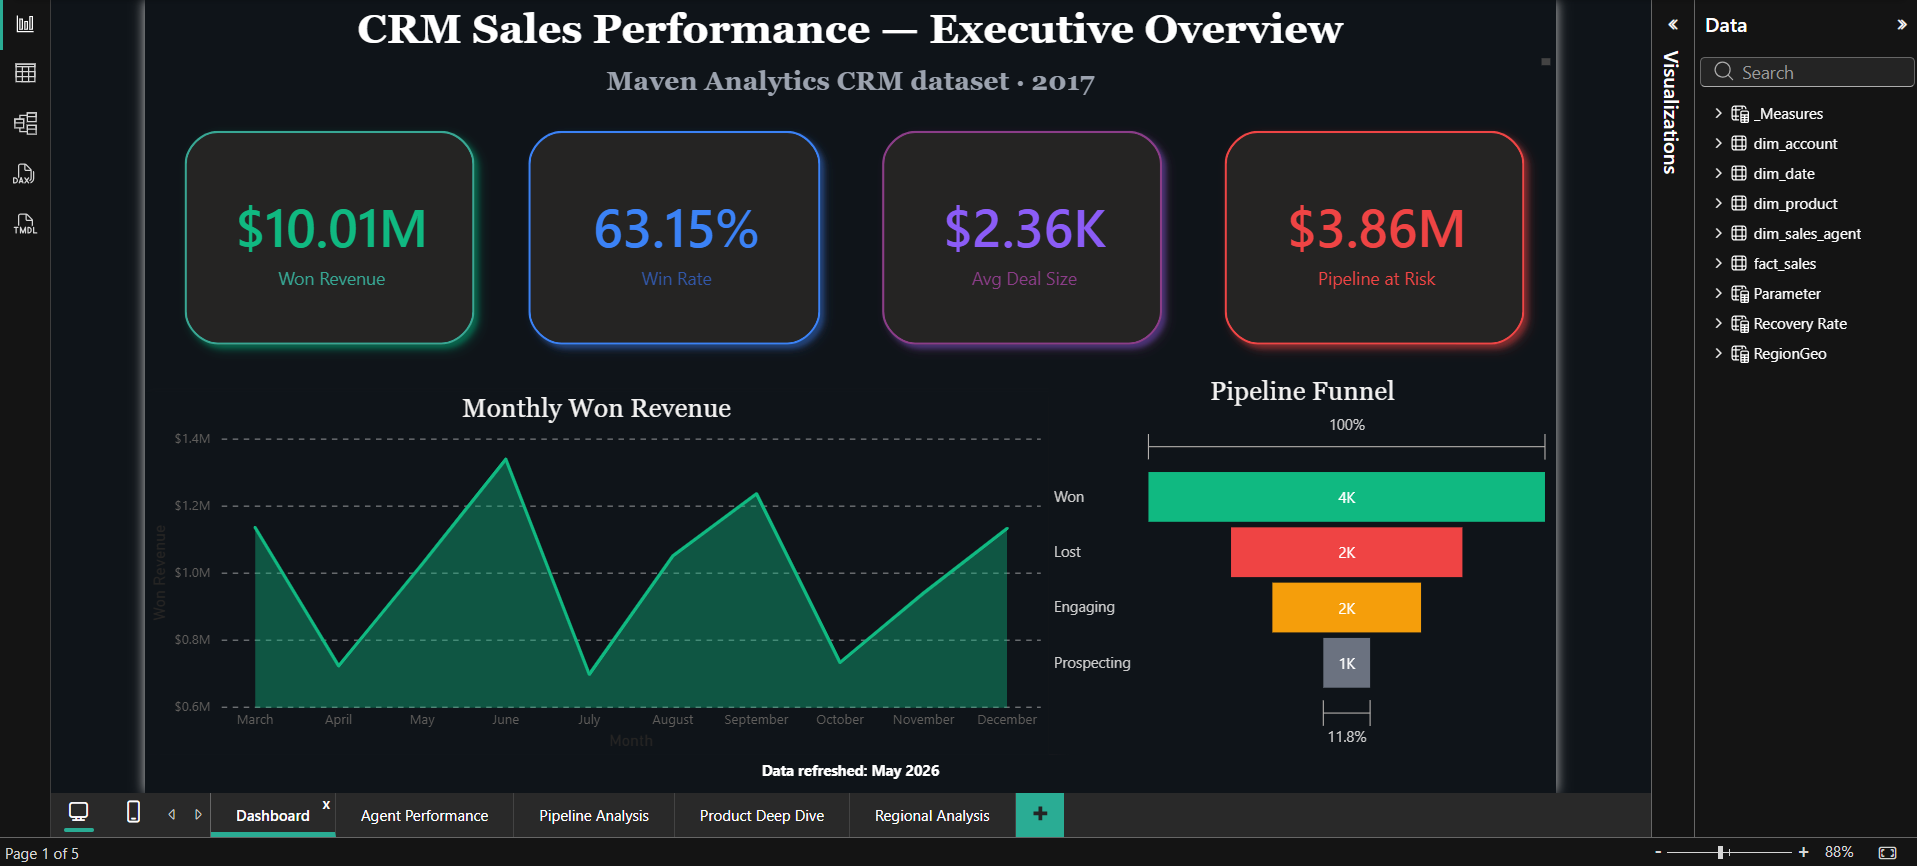

What the dashboard file says about the page in this screenshot:
{"tool":"powerbi","page":{"name":"Dashboard","canvas":[1280,720],"ordinal":0},"visuals":[{"type":"textbox","title":"CRM Sales Performance — Executive Overview","box":[0,0,1280.2,64],"z":0},{"type":"textbox","title":"Maven Analytics CRM dataset · 2017","box":[0,54.8,1280.2,36.1],"z":1000},{"type":"cardVisual","fields":{"Data":["_Measures.Win Rate"]},"box":[320,91.2,321.2,250],"z":2000},{"type":"cardVisual","fields":{"Data":["_Measures.Avg Deal Size"]},"box":[641.2,91.2,310,250],"z":3000},{"type":"cardVisual","fields":{"Data":["_Measures.Pipeline at Risk"]},"box":[951.2,91.2,328.8,250],"z":4000},{"type":"cardVisual","fields":{"Data":["_Measures.Won Revenue"]},"box":[8.1,90.7,319.8,250],"z":5000},{"type":"lineChart","title":"Monthly Won Revenue","fields":{"Y":["_Measures.Won Revenue"],"Category":["dim_date.year Hierarchy.month_name","dim_date.year Hierarchy.day"]},"box":[0,355.8,819.8,329.1],"z":6000},{"type":"funnel","title":"Pipeline Funnel","fields":{"Category":["fact_sales.deal_stage"],"Y":["_Measures.Total Opportunities"]},"box":[819.8,340.7,460.5,344.2],"z":7000},{"type":"textbox","box":[0,684.9,1280.2,34.9],"z":8000}]}

Visuals, with their boxes on the page's 1280x720 design canvas (x1, y1, x2, y2). These are canvas units, not pixel positions in the 1917x866 screenshot, which may show the page scaled, cropped or inside an application window:
"CRM Sales Performance — Executive Overview" textbox: l=0, t=0, r=1280, b=64
"Maven Analytics CRM dataset · 2017" textbox: l=0, t=55, r=1280, b=91
cardVisual - _Measures.Win Rate: l=320, t=91, r=641, b=341
cardVisual - _Measures.Avg Deal Size: l=641, t=91, r=951, b=341
cardVisual - _Measures.Pipeline at Risk: l=951, t=91, r=1280, b=341
cardVisual - _Measures.Won Revenue: l=8, t=91, r=328, b=341
"Monthly Won Revenue" lineChart: l=0, t=356, r=820, b=685
"Pipeline Funnel" funnel: l=820, t=341, r=1280, b=685
textbox: l=0, t=685, r=1280, b=720
